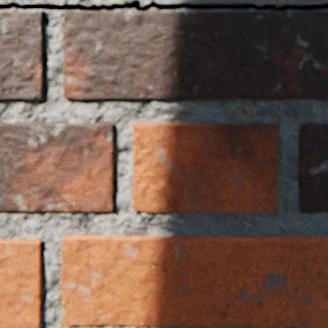brick: (62, 234, 327, 326), (64, 10, 327, 99), (133, 122, 278, 211), (0, 122, 115, 211), (0, 11, 45, 99), (0, 238, 43, 327), (298, 123, 327, 212)
crack: (0, 0, 327, 11)
